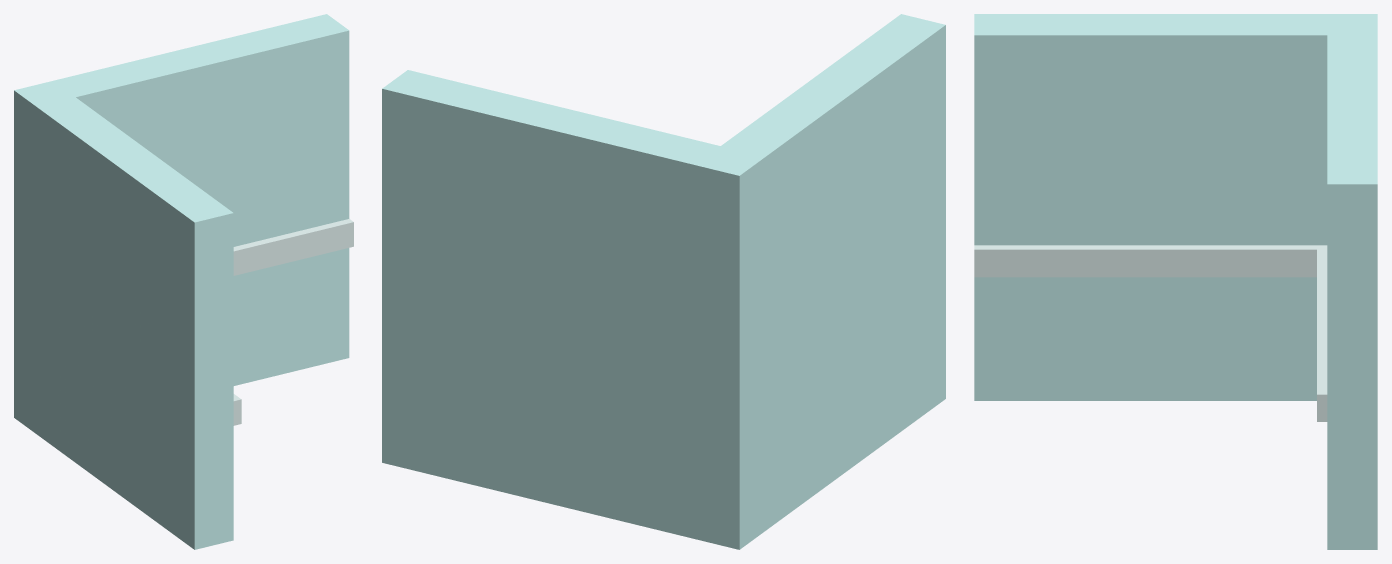
File: BaseWallCorner.obj
3 renders of one model, left to right at view 1: azimuth 30°, elevation 25°; view 2: azimuth 150°, elevation 25°; view 3: azimuth 270°, elevation 25°, orthographic. The views are drawn at different scales.
Bounding box in the file's own units: 4 × 4 × 4.
Materials: 1 (1 with a texture image).
